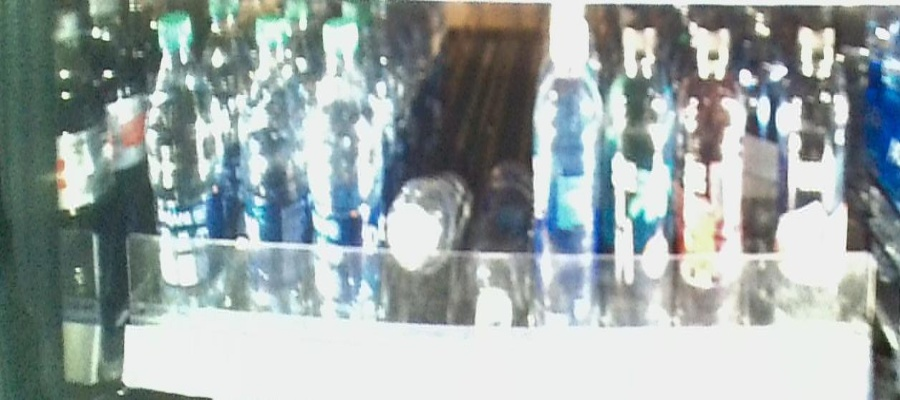bottle: (307, 15, 383, 336), (145, 1, 221, 310), (682, 11, 748, 346), (236, 7, 303, 327), (535, 17, 602, 334), (609, 20, 674, 342), (785, 19, 849, 331), (389, 180, 459, 334), (472, 216, 530, 334)
